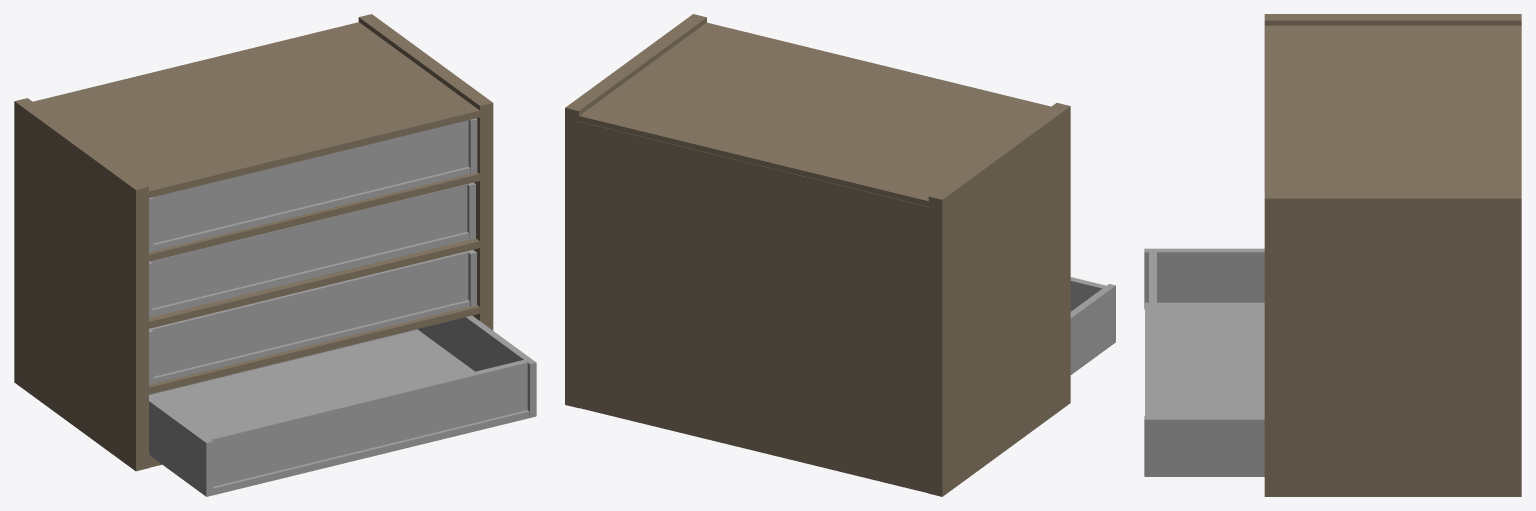
The model's file is tana.fbx.
3 renders of one model, left to right at view 1: azimuth 30°, elevation 25°; view 2: azimuth 150°, elevation 25°; view 3: azimuth 270°, elevation 25°, orthographic. The views are drawn at different scales.
Visible parts, largest first — view 1: group15_pasted__group13_pasted__pasted__group12_pasted__past, pasted__pasted__pasted__pasted__pasted__pasted__pasted__past (×3), pasted__pasted__pasted__pasted__pasted__pasted__pasted__pCub; view 2: group15_pasted__group13_pasted__pasted__group12_pasted__past, pasted__pasted__pasted__pasted__pasted__pasted__pasted__past; view 3: group15_pasted__group13_pasted__pasted__group12_pasted__past, pasted__pasted__pasted__pasted__pasted__pasted__pasted__past.
Boxes of the visible parts, bbox=[...] form: group15_pasted__group13_pasted__pasted__group12_pasted__past: bbox=[14, 14, 493, 471]; pasted__pasted__pasted__pasted__pasted__pasted__pasted__past (×3): bbox=[149, 182, 536, 496]; pasted__pasted__pasted__pasted__pasted__pasted__pasted__pCub: bbox=[149, 118, 477, 252]; group15_pasted__group13_pasted__pasted__group12_pasted__past: bbox=[565, 14, 1070, 496]; pasted__pasted__pasted__pasted__pasted__pasted__pasted__past: bbox=[1070, 277, 1115, 374]; group15_pasted__group13_pasted__pasted__group12_pasted__past: bbox=[1264, 14, 1521, 496]; pasted__pasted__pasted__pasted__pasted__pasted__pasted__past: bbox=[1144, 248, 1264, 476].
Bounding box in the file's own units: 2.11 × 1.59 × 1.83.
